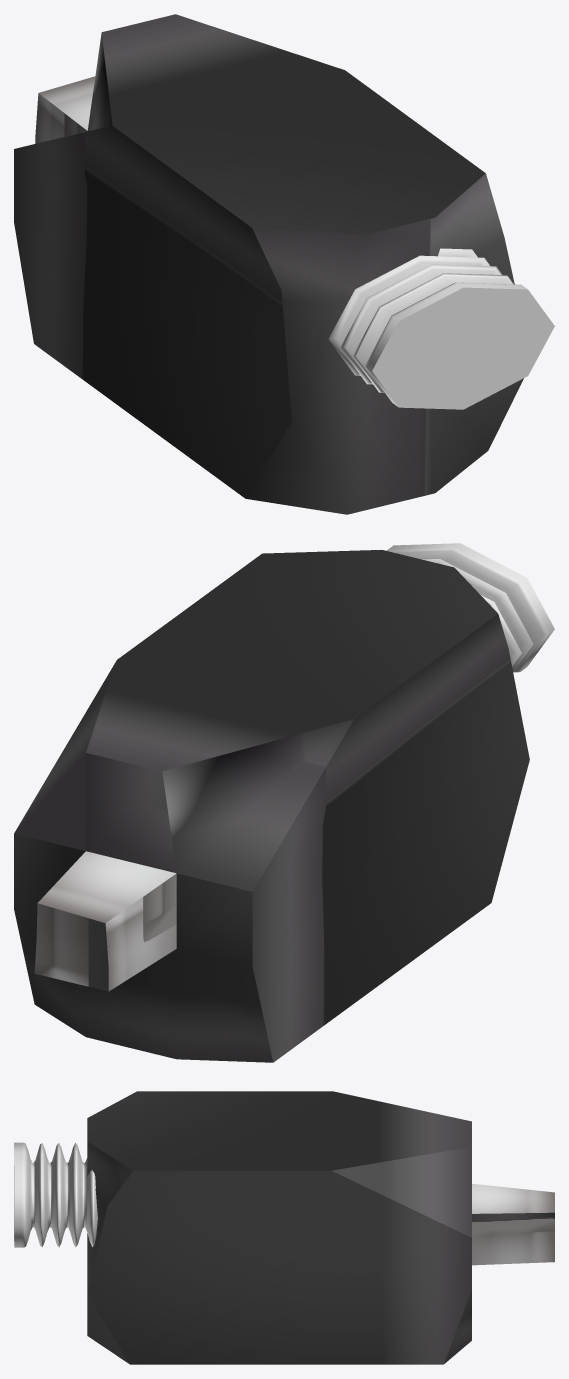
Rendered from microUSB.FBX.
The picture shows the model from 3 angles, top to bottom: view 1: azimuth 30°, elevation 25°; view 2: azimuth 150°, elevation 25°; view 3: azimuth 270°, elevation 25°; orthographic projection. The views are drawn at different scales.
Visible parts, largest first — view 1: Box006, Hose002; view 2: Box006, Hose002; view 3: Box006, Hose002.
Part boxes in pixels (bbox=[...]): Box006: bbox=[14, 14, 523, 514]; Hose002: bbox=[328, 248, 554, 409]; Box006: bbox=[14, 550, 529, 1062]; Hose002: bbox=[386, 543, 554, 672]; Box006: bbox=[87, 1091, 554, 1364]; Hose002: bbox=[14, 1142, 97, 1247].
Size of the model in its own units: 5.13 by 5.53 by 13.98.
